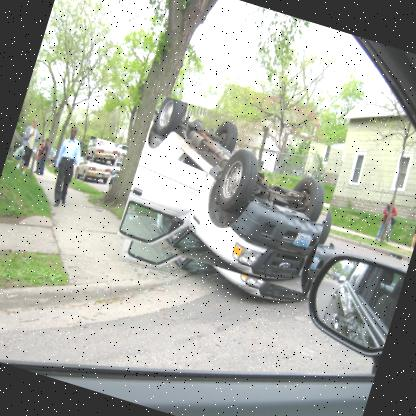Car: (0, 0, 415, 415), (115, 94, 345, 294), (82, 135, 122, 170), (115, 143, 128, 157)
